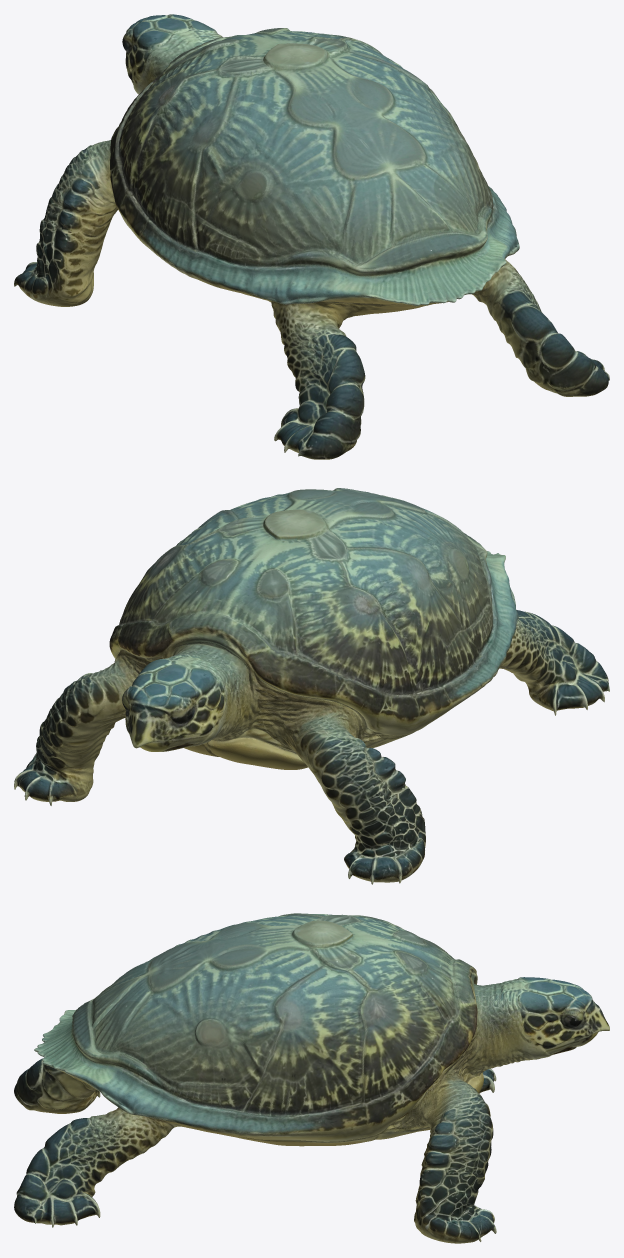
File: sea_turtle_3d_model_2.glb
3 renders of one model, top to bottom at view 1: azimuth 30°, elevation 25°; view 2: azimuth 150°, elevation 25°; view 3: azimuth 270°, elevation 25°, orthographic. The views are drawn at different scales.
Visible parts, largest first — view 1: tripo_node_c61fec93-4be3-4a14-a7f2-b1aa15a549e6; view 2: tripo_node_c61fec93-4be3-4a14-a7f2-b1aa15a549e6; view 3: tripo_node_c61fec93-4be3-4a14-a7f2-b1aa15a549e6.
Boxes of the visible parts, x1,y1,x2,y2 form: tripo_node_c61fec93-4be3-4a14-a7f2-b1aa15a549e6: [14, 14, 609, 459]; tripo_node_c61fec93-4be3-4a14-a7f2-b1aa15a549e6: [14, 488, 609, 884]; tripo_node_c61fec93-4be3-4a14-a7f2-b1aa15a549e6: [14, 913, 609, 1243].
Bounding box in the file's own units: 0.6826 × 0.4337 × 0.9992.
1 material, 1 textured.
